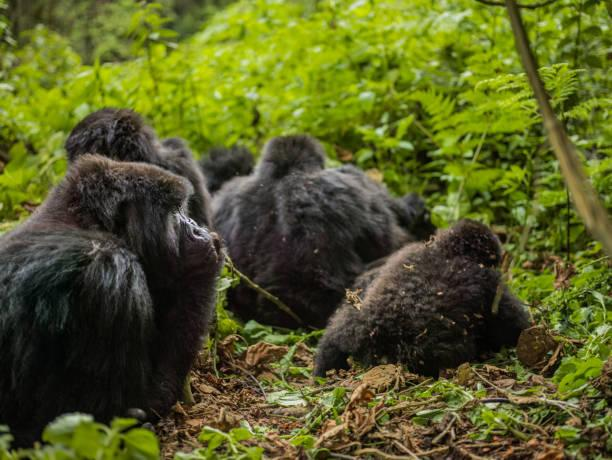goriile_montagne: (40, 153, 205, 459)
